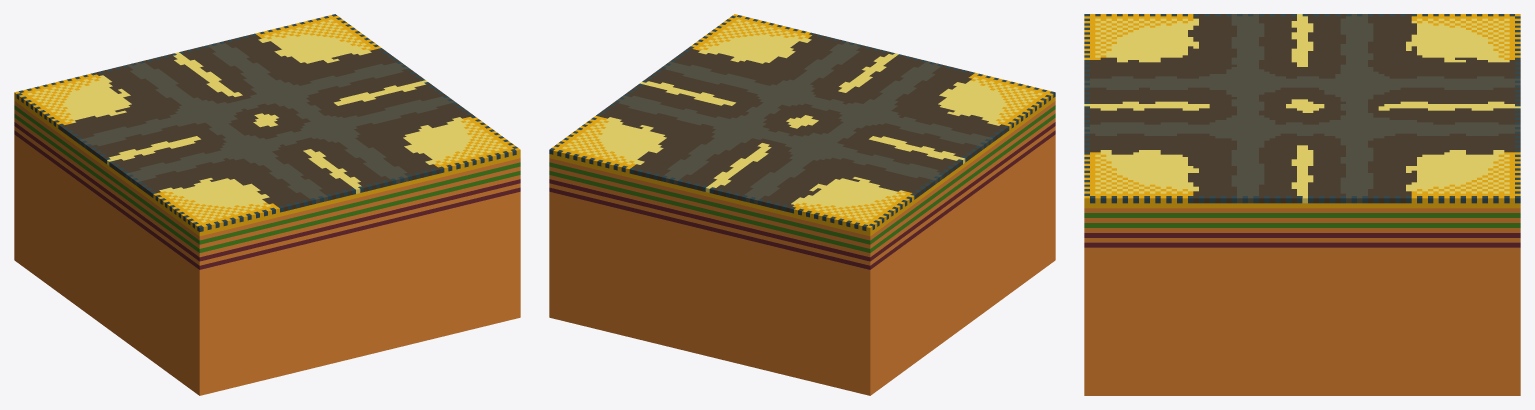
File: sand_dirt_road_4_tile.obj
3 renders of one model, left to right at view 1: azimuth 30°, elevation 25°; view 2: azimuth 150°, elevation 25°; view 3: azimuth 270°, elevation 25°, orthographic. The views are drawn at different scales.
Size of the model in its own units: 8 by 4 by 8.
1 material, 1 textured.
